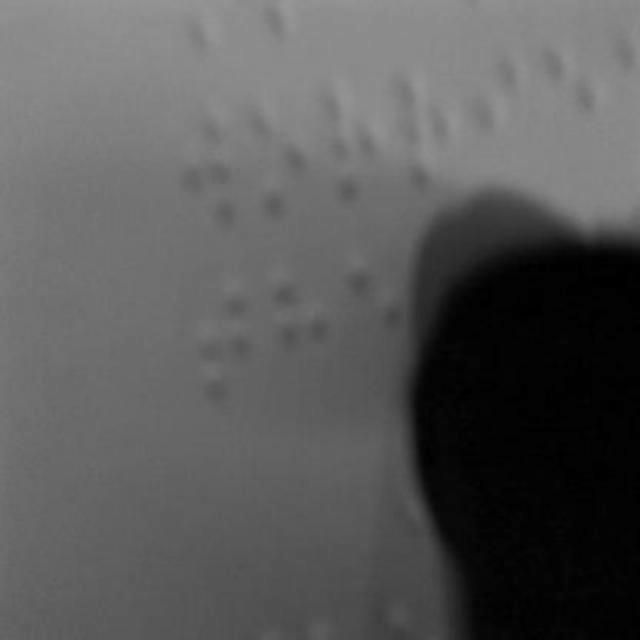braiile: (246, 77, 318, 221), (342, 244, 414, 386), (396, 58, 468, 192), (264, 254, 330, 398), (195, 259, 259, 405), (322, 70, 388, 210), (175, 96, 241, 230), (544, 38, 608, 174), (472, 48, 534, 174)
